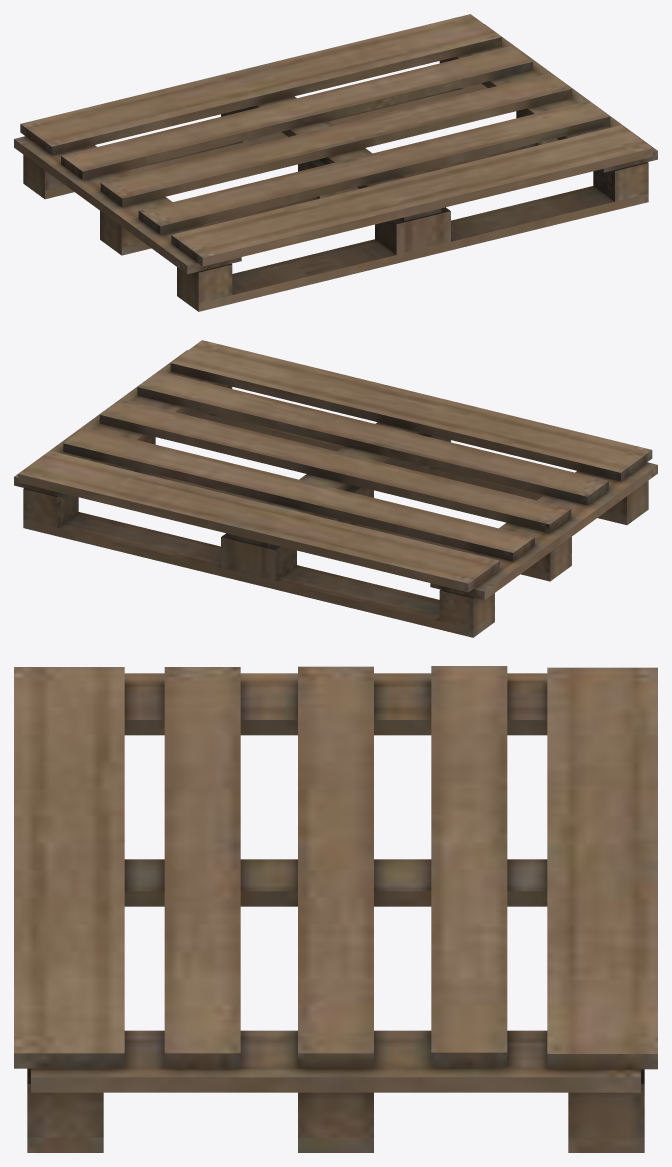
Rendered from pallet_lod1_web.glb.
3 views of the same model, one above another, from view 1: azimuth 30°, elevation 25°; view 2: azimuth 150°, elevation 25°; view 3: azimuth 270°, elevation 25° (orthographic). The views are drawn at different scales.
Parts seen in each view (by area): view 1: Pallet_Body; view 2: Pallet_Body; view 3: Pallet_Body.
Boxes of the visible parts, x1,y1,x2,y2 form: Pallet_Body: (14, 14, 657, 311); Pallet_Body: (14, 340, 657, 637); Pallet_Body: (14, 666, 657, 1152).
Bounding box in the file's own units: 1.26 × 0.1449 × 0.845.
1 material, 1 textured.
